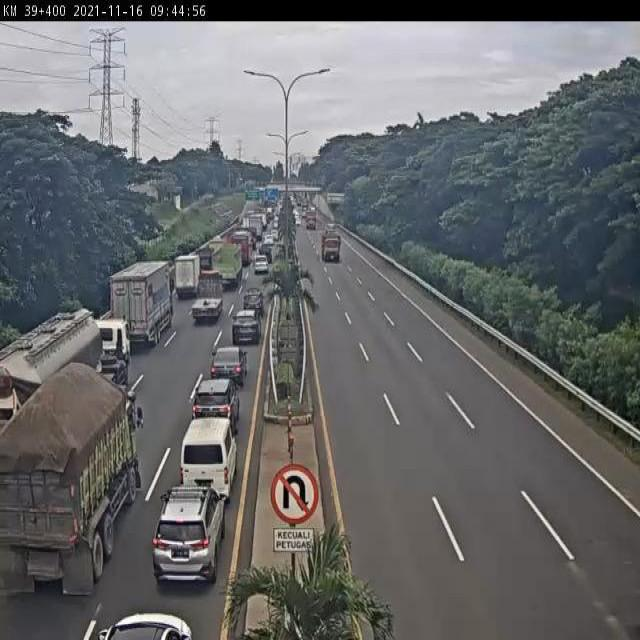car: (152, 488, 224, 584), (188, 382, 236, 446), (207, 345, 244, 388), (229, 309, 261, 348), (240, 290, 267, 322), (250, 252, 271, 280)
small bus: (180, 419, 235, 500)
truck-l-: (0, 377, 144, 595), (106, 264, 173, 352), (207, 242, 243, 294)
truck-m-: (191, 270, 226, 326), (169, 252, 200, 300)
truck-xl-: (0, 310, 132, 450)
